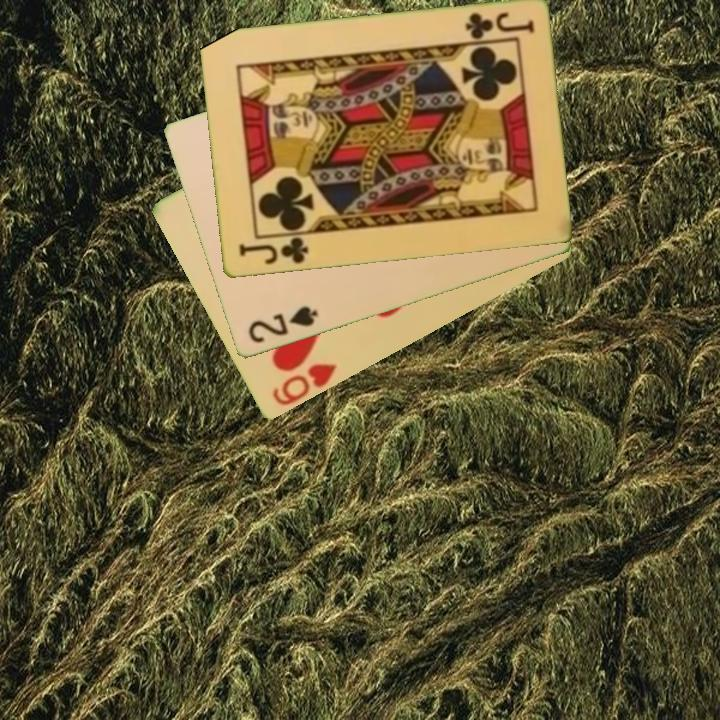2s: (244, 303, 320, 347)
6h: (268, 360, 340, 409)
Jc: (235, 234, 311, 268), (461, 9, 537, 42)
